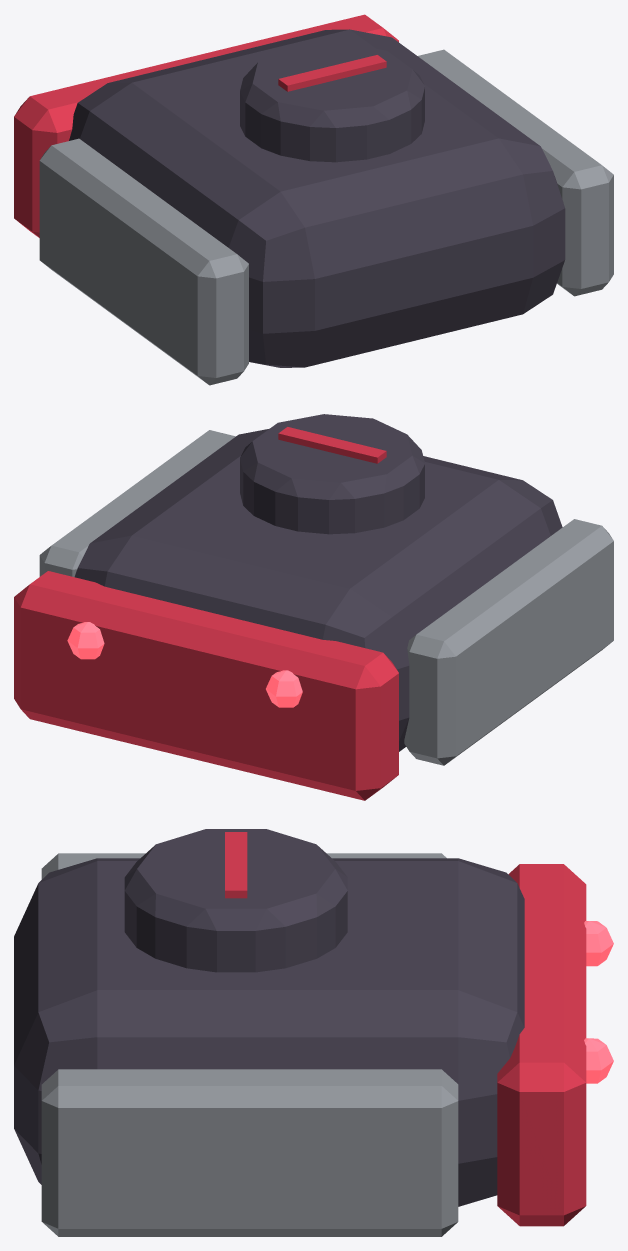
The model's file is enemy_tank.glb.
The picture shows the model from 3 angles, top to bottom: view 1: azimuth 30°, elevation 25°; view 2: azimuth 150°, elevation 25°; view 3: azimuth 270°, elevation 25°; orthographic projection. The views are drawn at different scales.
Visible parts, largest first — view 1: enemy_tank; view 2: enemy_tank; view 3: enemy_tank.
Boxes of the visible parts, x1=… form: enemy_tank: x1=14, y1=14, x2=613, y2=385; enemy_tank: x1=14, y1=414, x2=613, y2=800; enemy_tank: x1=14, y1=829, x2=613, y2=1236.
Bounding box in the file's own units: 2.1 × 1.11 × 2.16.
